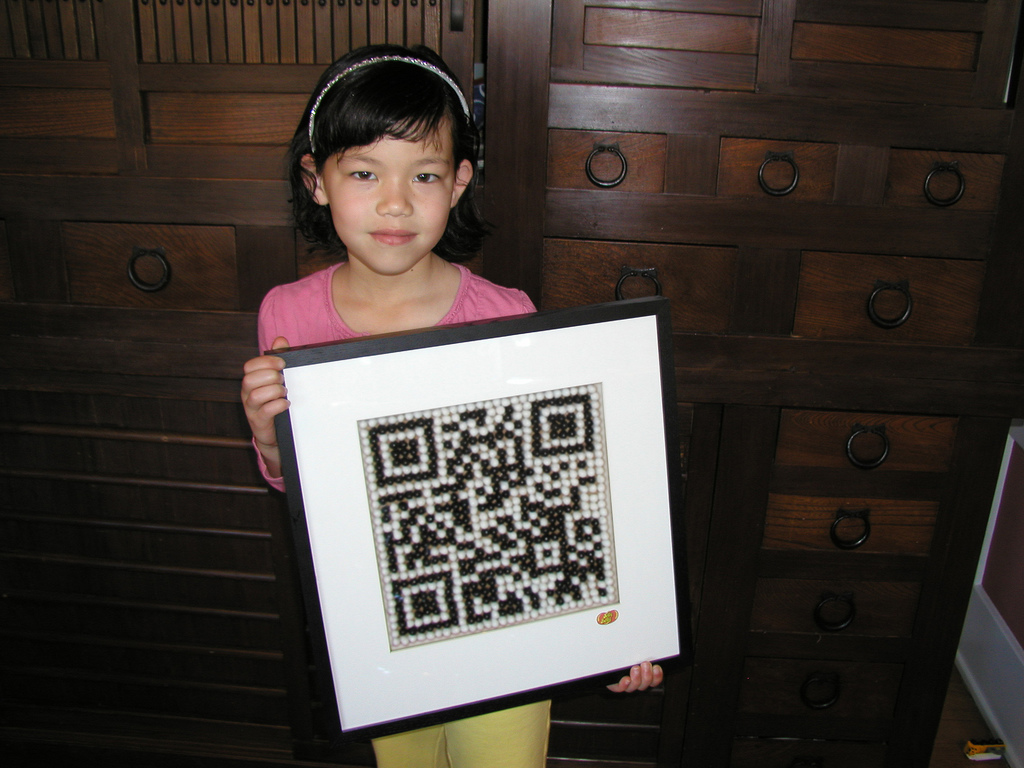QR-CODE: (369, 394, 607, 636)
